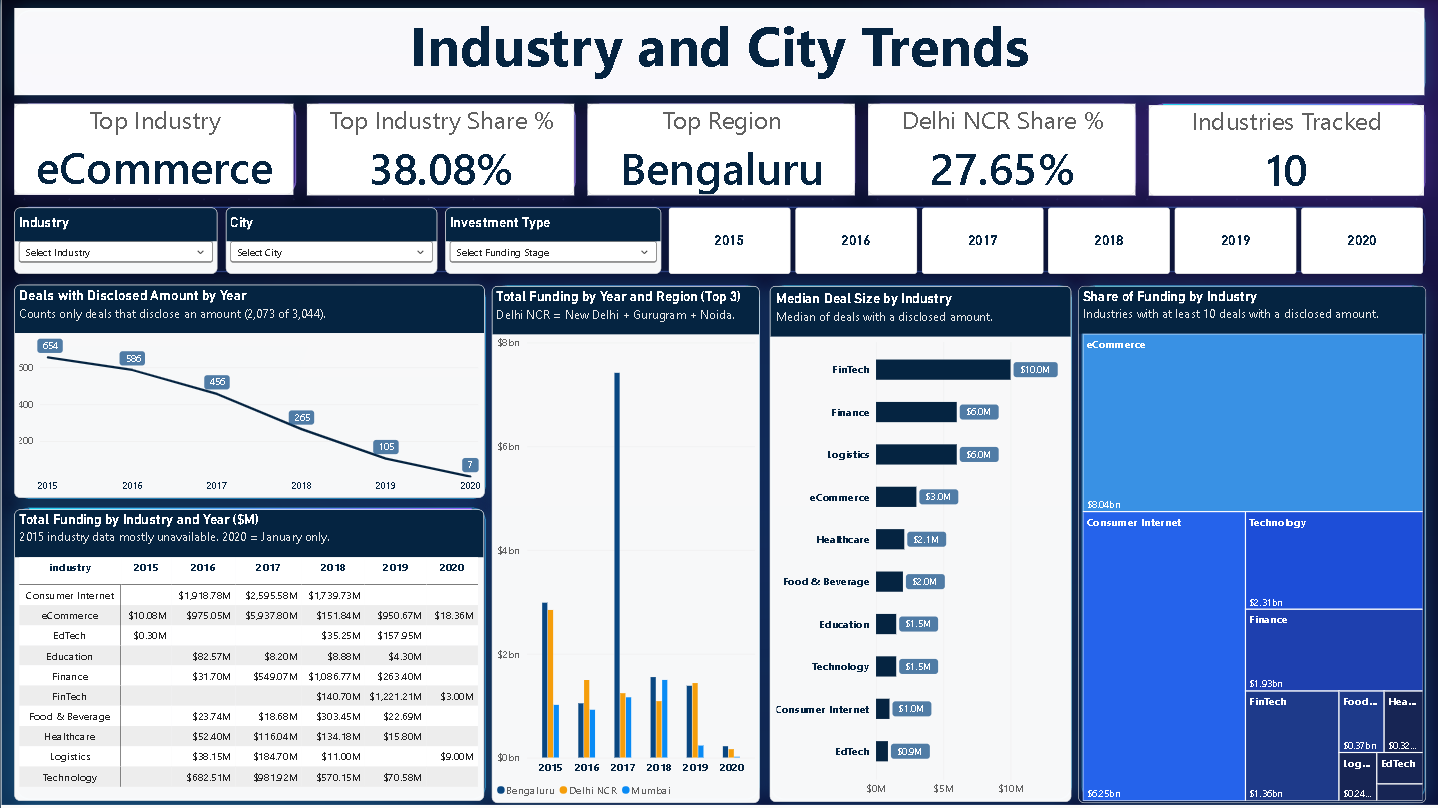

This screenshot's page, from the dashboard's own definition file:
{"tool":"powerbi","page":{"name":"Industry & City trends","canvas":[1920,1080],"ordinal":2},"visuals":[{"type":"cardVisual","fields":{"Data":["funding.Industries Tracked"]},"box":[1533.7,140,367.3,121.1],"z":0},{"type":"textbox","box":[17.4,11,1884.2,116.2],"z":1000},{"type":"lineChart","title":"Deals with Disclosed Amount by Year","fields":{"Category":["funding.year.Variation.Date Hierarchy.Year"],"Y":["funding.Deals with Amount"]},"box":[17.7,381.2,628.7,284.9],"z":2000},{"type":"clusteredColumnChart","title":"Total Funding by Year and Region (Top 3)","fields":{"Category":["funding.year.Variation.Date Hierarchy.Year"],"Series":["funding.Region"],"Y":["funding.Total Funding"]},"box":[656,381.5,358.3,691.3],"z":3000},{"type":"pivotTable","title":"Total Funding by Industry and Year ($M)","fields":{"Columns":["funding.year.Variation.Date Hierarchy.Year"],"Rows":["funding.industry"],"Values":["funding.Total Funding"]},"box":[17.6,680.7,627.9,389.3],"z":4000},{"type":"treemap","title":"Share of Funding by Industry","fields":{"Details":["funding.industry"],"Values":["funding.Total Funding"]},"box":[1438.8,381.5,464.8,691],"z":5000},{"type":"clusteredBarChart","title":"Median Deal Size by Industry","fields":{"Category":["funding.industry"],"Y":["funding.Median Deal Size"]},"box":[1026.4,381.5,402.8,689.4],"z":6000},{"type":"cardVisual","fields":{"Data":["funding.Top Industry"]},"box":[17.7,139.5,373.3,121.8],"z":7000},{"type":"cardVisual","fields":{"Data":["funding.Delhi NCR Share %"]},"box":[1158.7,139.5,357.3,122.4],"z":8000},{"type":"cardVisual","fields":{"Data":["funding.Top Region"]},"box":[783.7,139.5,357.3,122.4],"z":9000},{"type":"cardVisual","fields":{"Data":["funding.Top Industry Share %"]},"box":[408.7,139.5,357.3,122.4],"z":10000},{"type":"advancedSlicerVisual","fields":{"Values":["funding.year.Variation.Date Hierarchy.Year"]},"box":[892.7,276.9,1008.9,89.1],"z":11000},{"type":"listSlicer","title":"Industry","fields":{"Values":["funding.industry"]},"box":[17.4,276.9,271.1,89.1],"z":12000},{"type":"listSlicer","title":"Investment Type","fields":{"Values":["funding.investment_type"]},"box":[593.2,276.9,288.5,89.1],"z":13000},{"type":"listSlicer","title":"City","fields":{"Values":["funding.city_clean"]},"box":[299.5,276.9,282.7,89.1],"z":14000}]}

Visuals, with their boxes in screenshot pixels (x1, y1, x2, y2), scaled from the page's 1920x1080 canvas onto the 1438x808 screenshot:
cardVisual - funding.Industries Tracked: <region>1149, 105, 1424, 195</region>
textbox: <region>13, 8, 1424, 95</region>
"Deals with Disclosed Amount by Year" lineChart: <region>13, 285, 484, 498</region>
"Total Funding by Year and Region (Top 3)" clusteredColumnChart: <region>491, 285, 760, 803</region>
"Total Funding by Industry and Year ($M)" pivotTable: <region>13, 509, 483, 801</region>
"Share of Funding by Industry" treemap: <region>1078, 285, 1426, 802</region>
"Median Deal Size by Industry" clusteredBarChart: <region>769, 285, 1070, 801</region>
cardVisual - funding.Top Industry: <region>13, 104, 293, 195</region>
cardVisual - funding.Delhi NCR Share %: <region>868, 104, 1135, 196</region>
cardVisual - funding.Top Region: <region>587, 104, 855, 196</region>
cardVisual - funding.Top Industry Share %: <region>306, 104, 574, 196</region>
advancedSlicerVisual - funding.year.Variation.Date Hierarchy.Year: <region>669, 207, 1424, 274</region>
"Industry" listSlicer: <region>13, 207, 216, 274</region>
"Investment Type" listSlicer: <region>444, 207, 660, 274</region>
"City" listSlicer: <region>224, 207, 436, 274</region>
